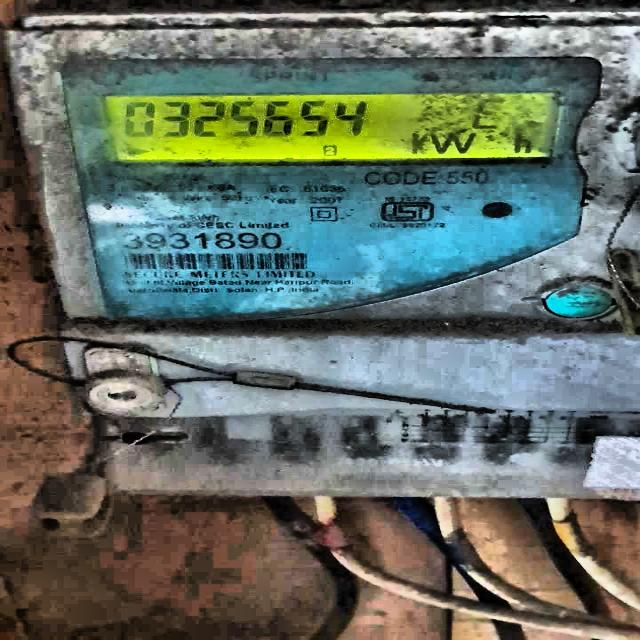Digital: (38, 20, 640, 499)
Reading: (122, 98, 380, 142)
Serial No.: (117, 232, 284, 250)
